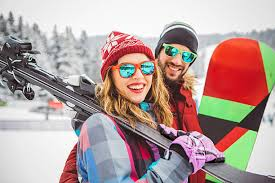snowboard: (1, 42, 275, 183), (178, 38, 273, 183)
